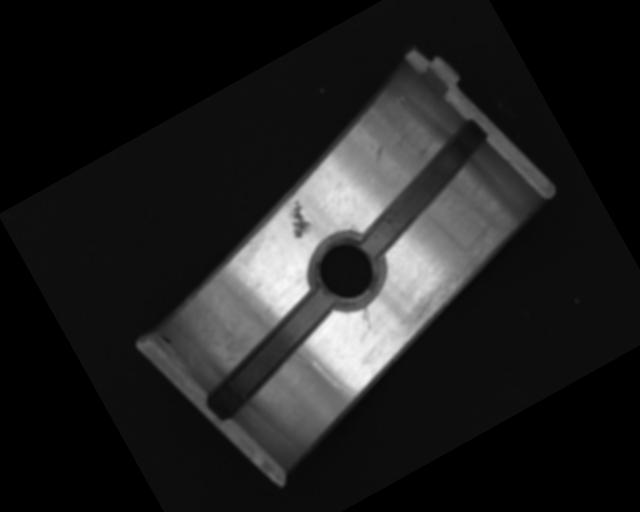blot: (157, 330, 172, 347)
bruise: (278, 198, 317, 241), (366, 139, 389, 164), (393, 91, 409, 105)
gap: (336, 117, 514, 262), (184, 283, 357, 424)
hole: (298, 223, 395, 320)
nick: (310, 348, 359, 408), (358, 306, 377, 331)
scratch: (376, 207, 548, 350)
